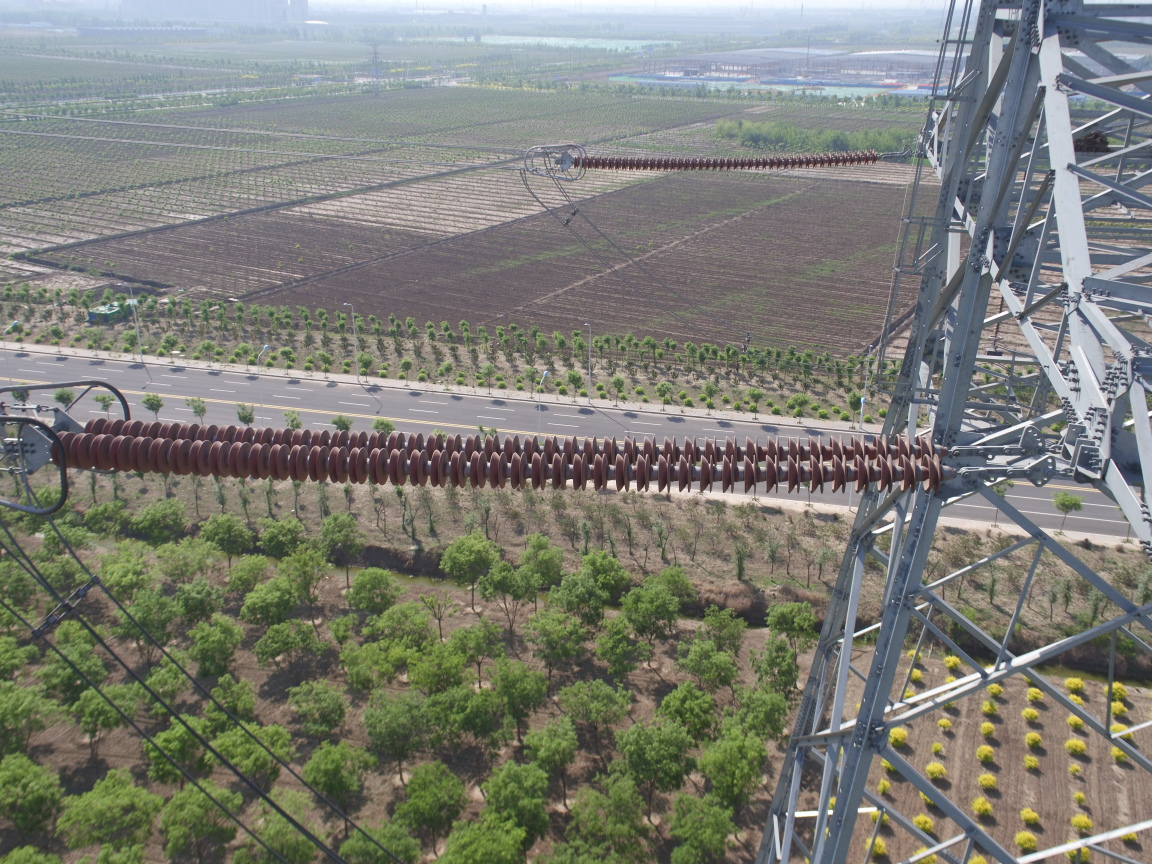insulator: (42, 400, 993, 501), (571, 148, 902, 173)
